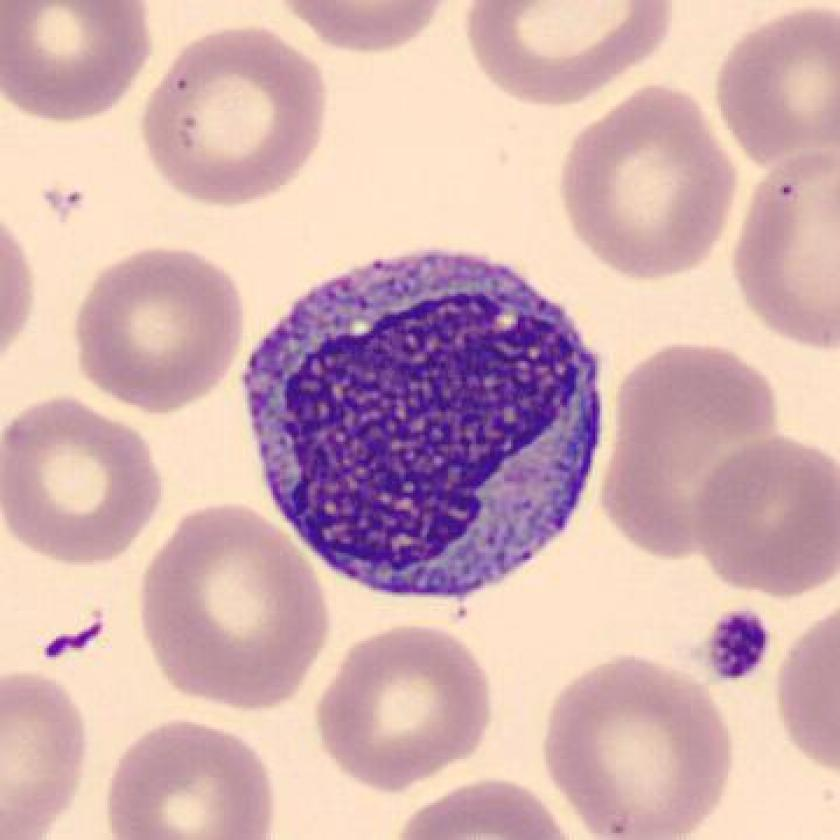monocyte: (227, 228, 629, 623)
